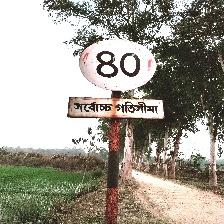Speed-limit: (68, 37, 164, 120)
